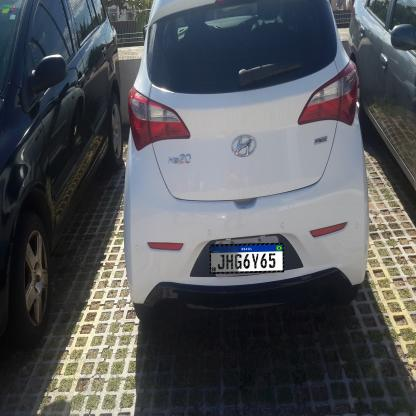PlacaM: (210, 243, 284, 274)
